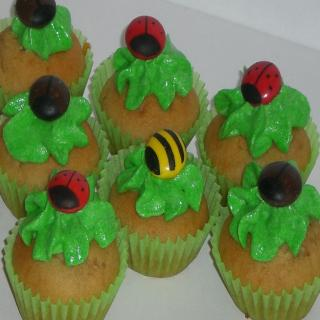Cake: (95, 129, 223, 280), (3, 166, 126, 319), (198, 61, 319, 208), (210, 162, 320, 320), (89, 15, 210, 150), (0, 75, 110, 218), (0, 0, 93, 96)
Muffin: (0, 0, 320, 320)
